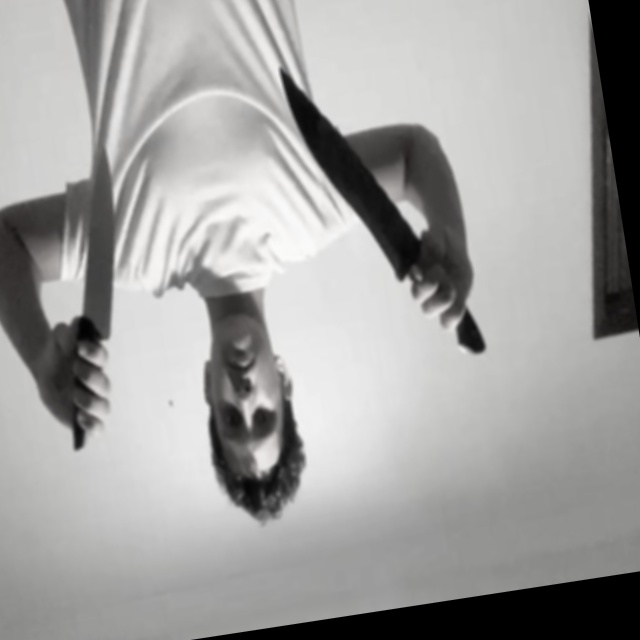Sharp-Object: (281, 53, 426, 295), (53, 147, 139, 347)
